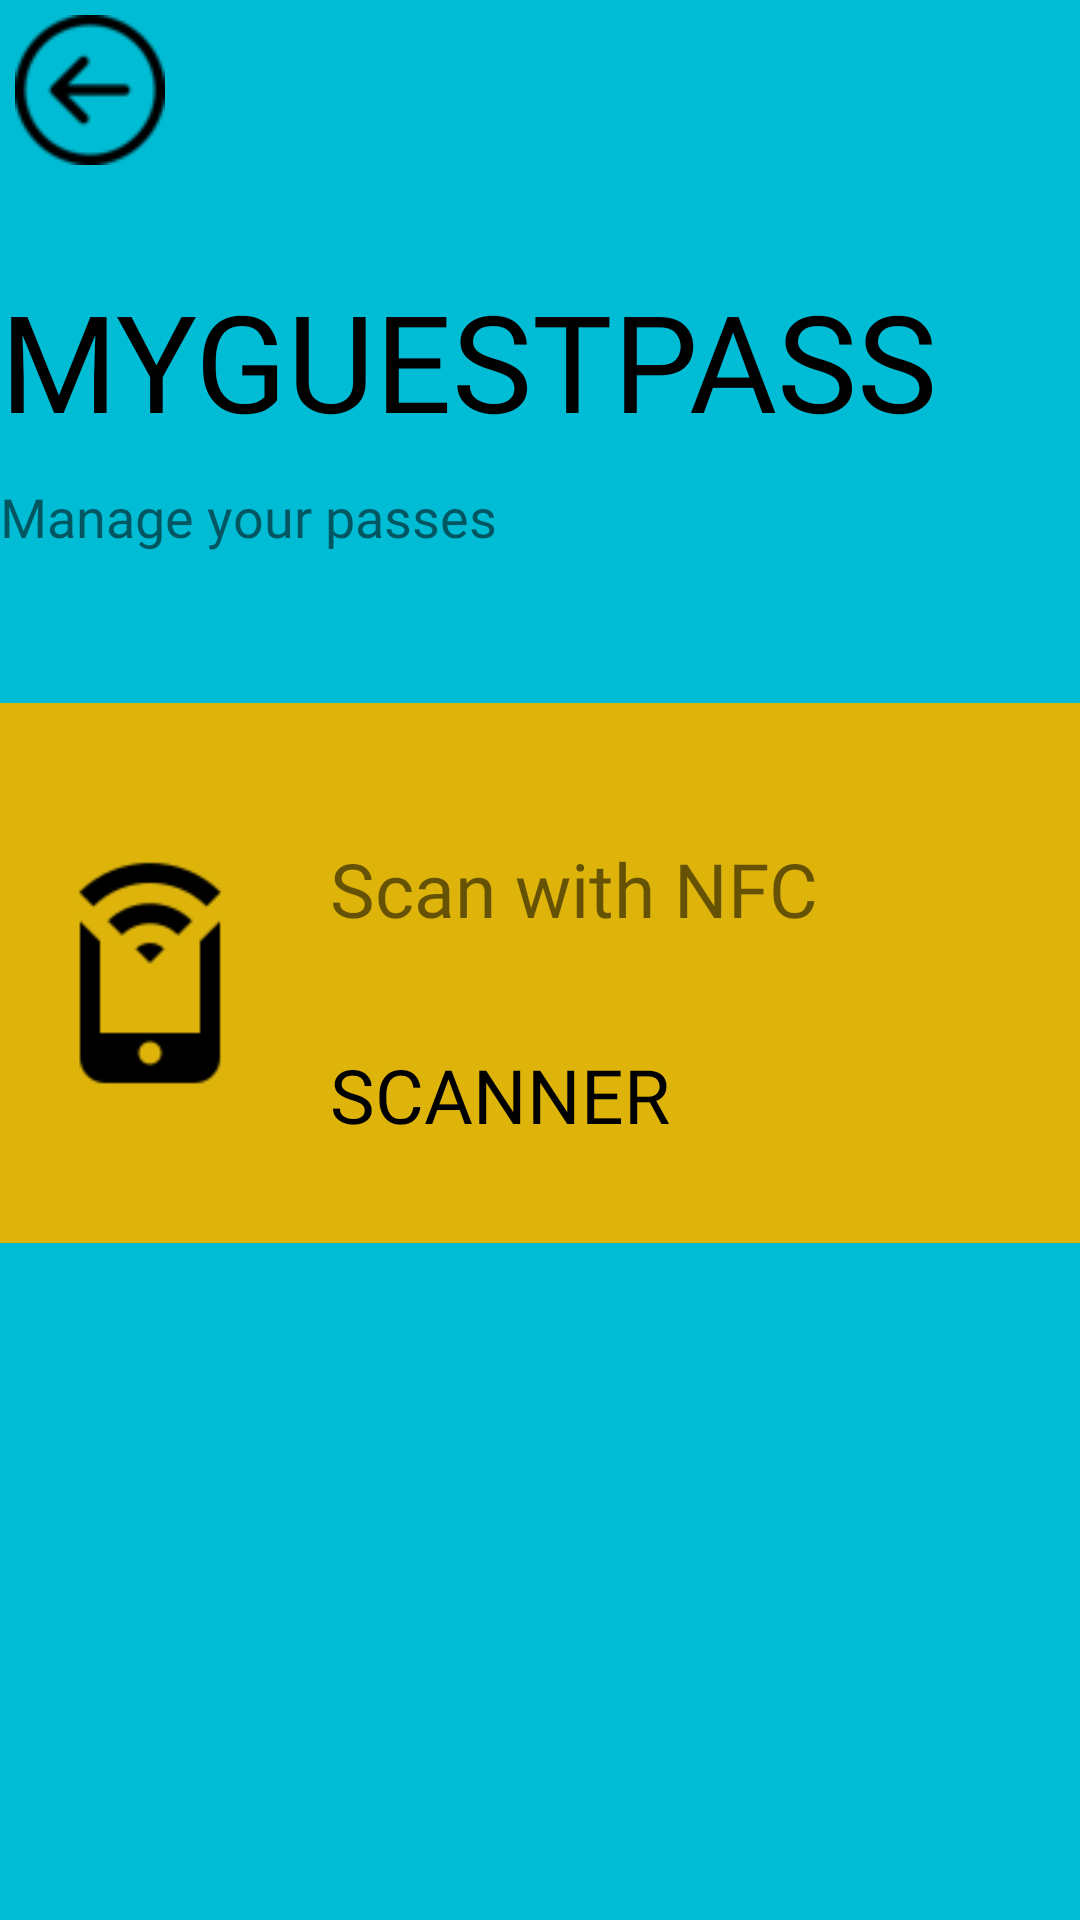

Named icons in this screenshot (1080 × 1920) and their bounding boxes, detection(x1, y1, x2, y2):
back: detection(15, 15, 165, 165)
